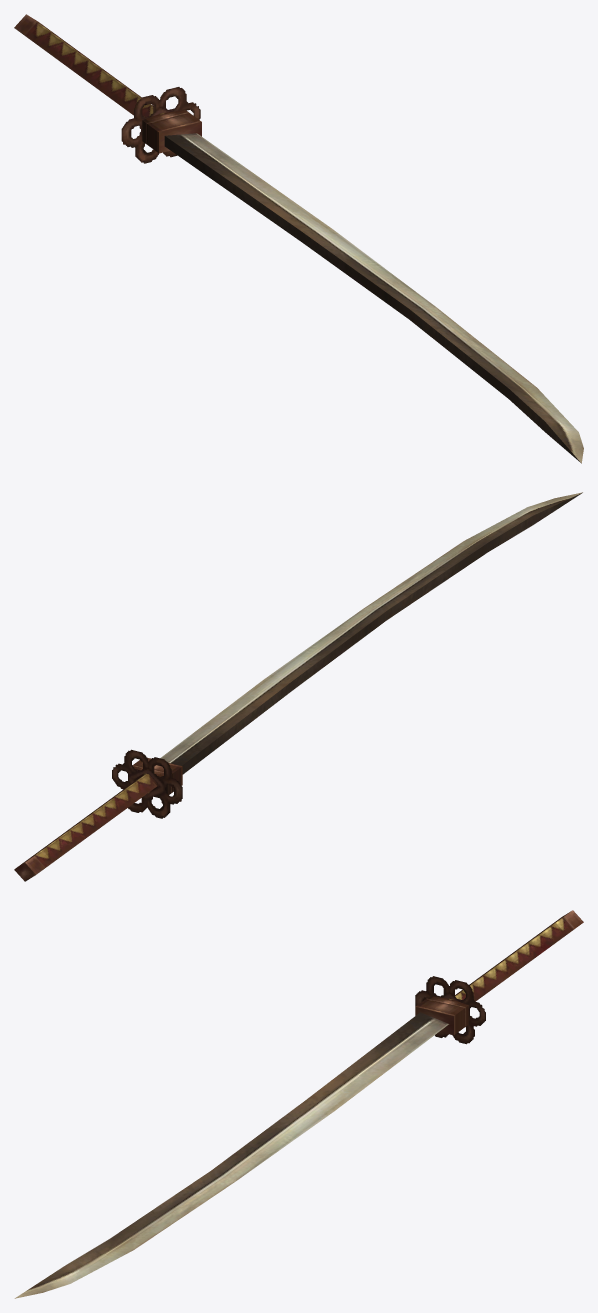
The picture shows the model from 3 angles, top to bottom: view 1: azimuth 30°, elevation 25°; view 2: azimuth 150°, elevation 25°; view 3: azimuth 330°, elevation 25°; orthographic projection. The views are drawn at different scales.
Visible parts, largest first — view 1: i004010; view 2: i004010; view 3: i004010.
Boxes of the visible parts, box(x1,y1,x2,y2) form: i004010: box(14, 14, 583, 463); i004010: box(14, 492, 582, 881); i004010: box(14, 910, 583, 1298).
Size of the model in its own units: 18.52 by 13.46 by 177.
Materials: 1 (1 with a texture image).
